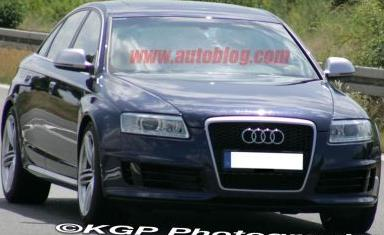front_view: (102, 92, 378, 209)
headlight: (114, 104, 194, 148)
side_glass: (29, 6, 101, 71)
